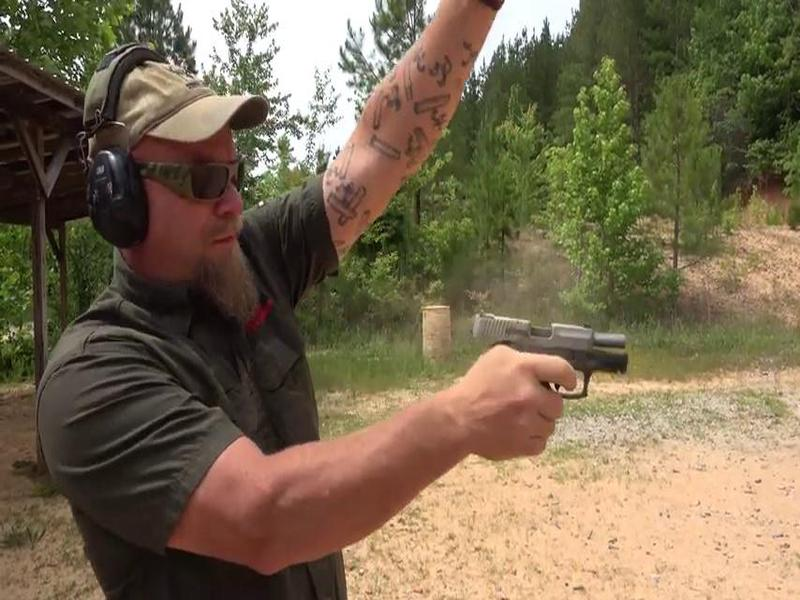Pistola: (434, 282, 638, 454)
